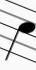note: (2, 6, 35, 68)
